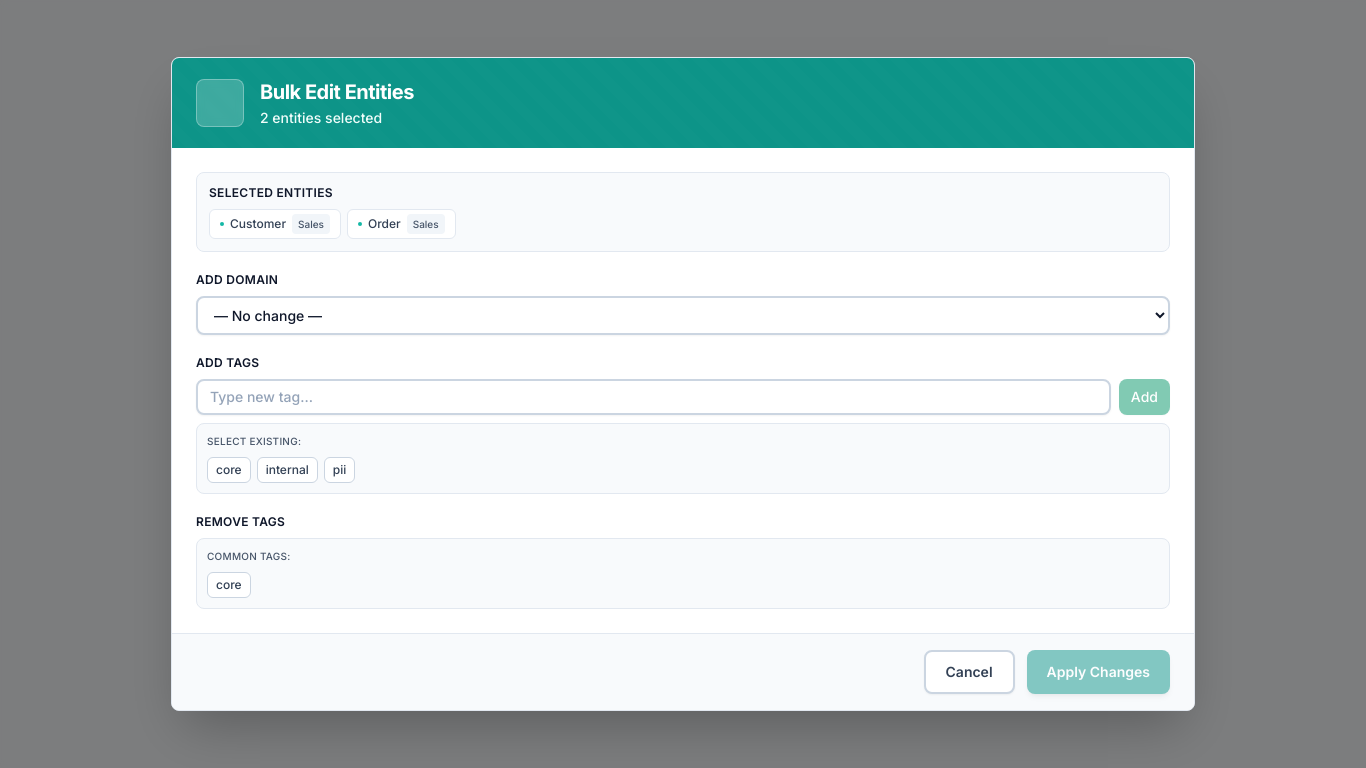
Test case: BulkEditModal › applies domain and new tag to all selected entities, leaves others alone, clears selection and closes
Select "Operations" in the dropdown labelled "Add Domain". click: (683, 316)
box: [196,296,1170,335]
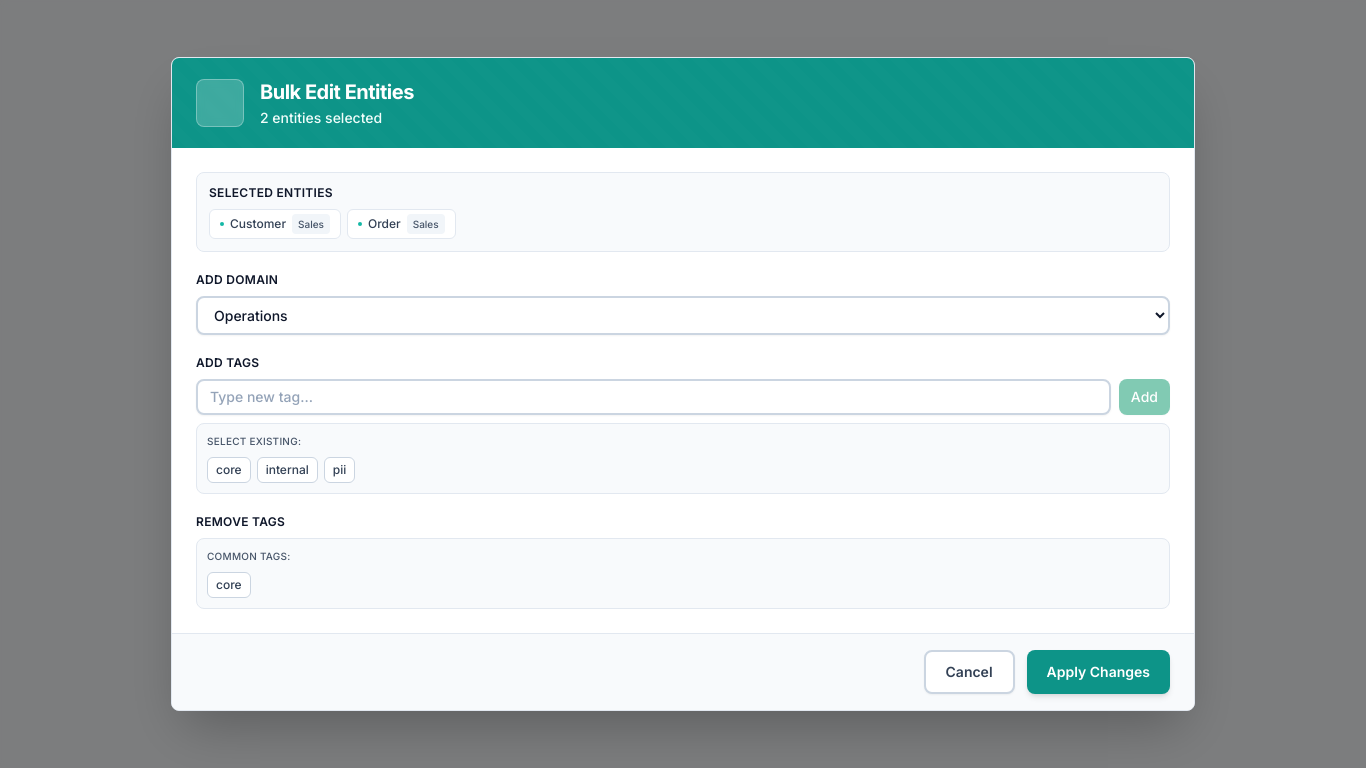
Type "reviewed" into the field with placeholder "Type new tag...". click: (653, 397)
box: [196,379,1111,415]
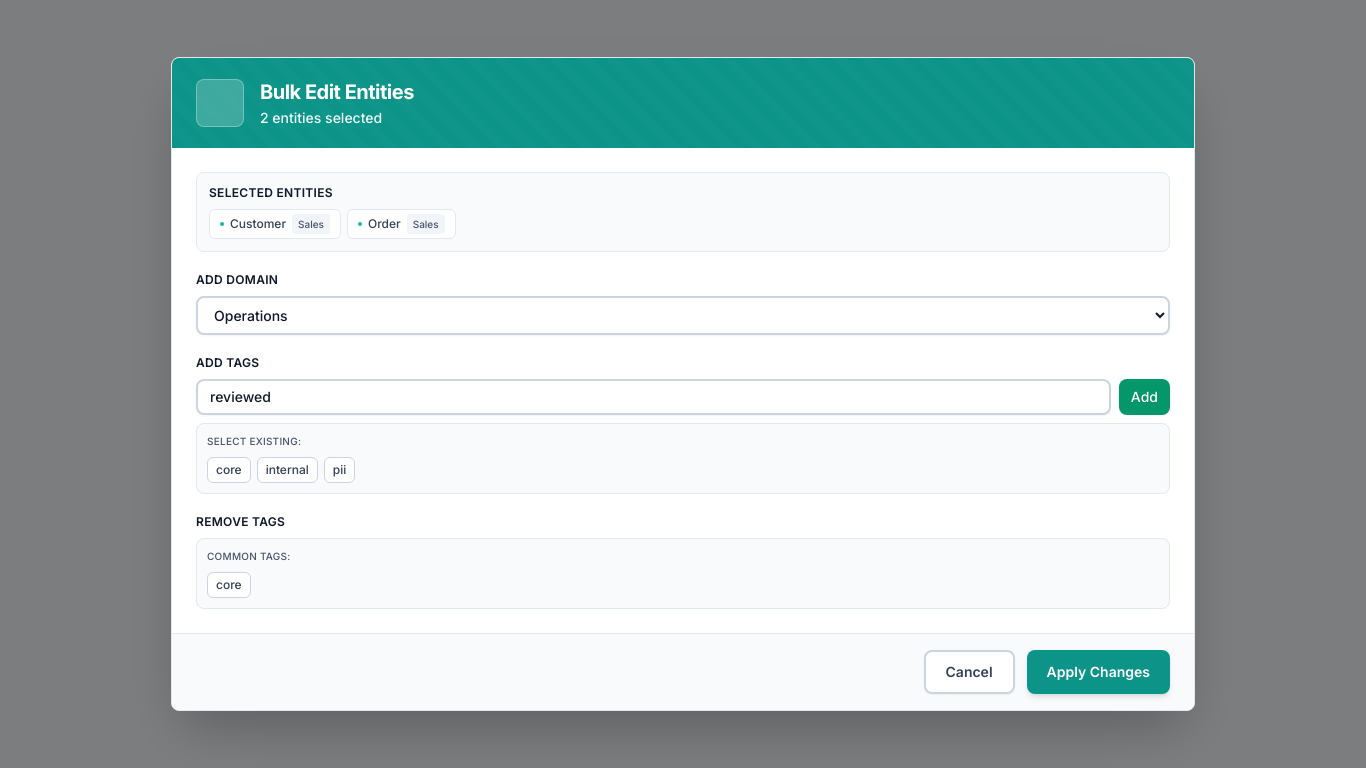
Click the button "Add". click: click(1144, 397)
box: [1119,379,1170,415]
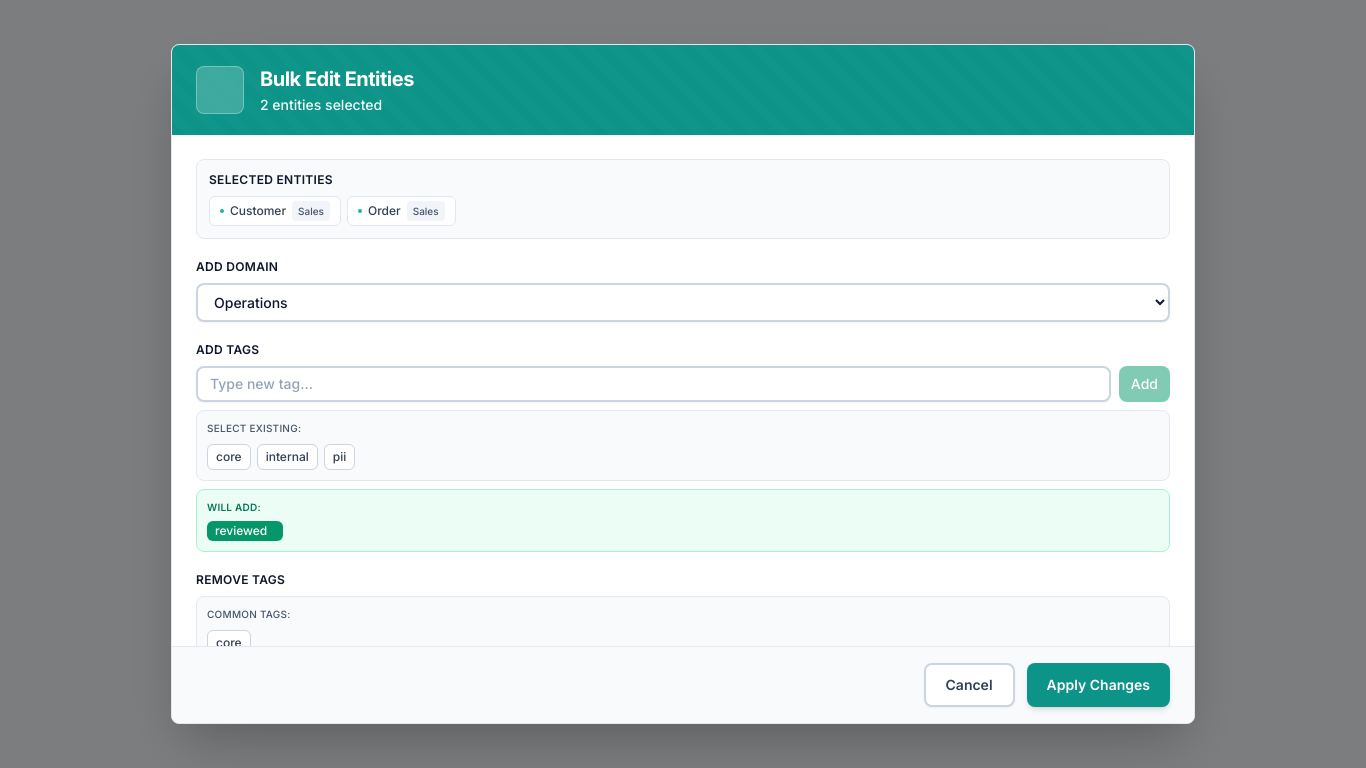
expect the text "Will add:" is shown: met, box [207,501,261,513]
Click the button "Apply Changes". click: click(1098, 685)
box: [1027,663,1170,707]
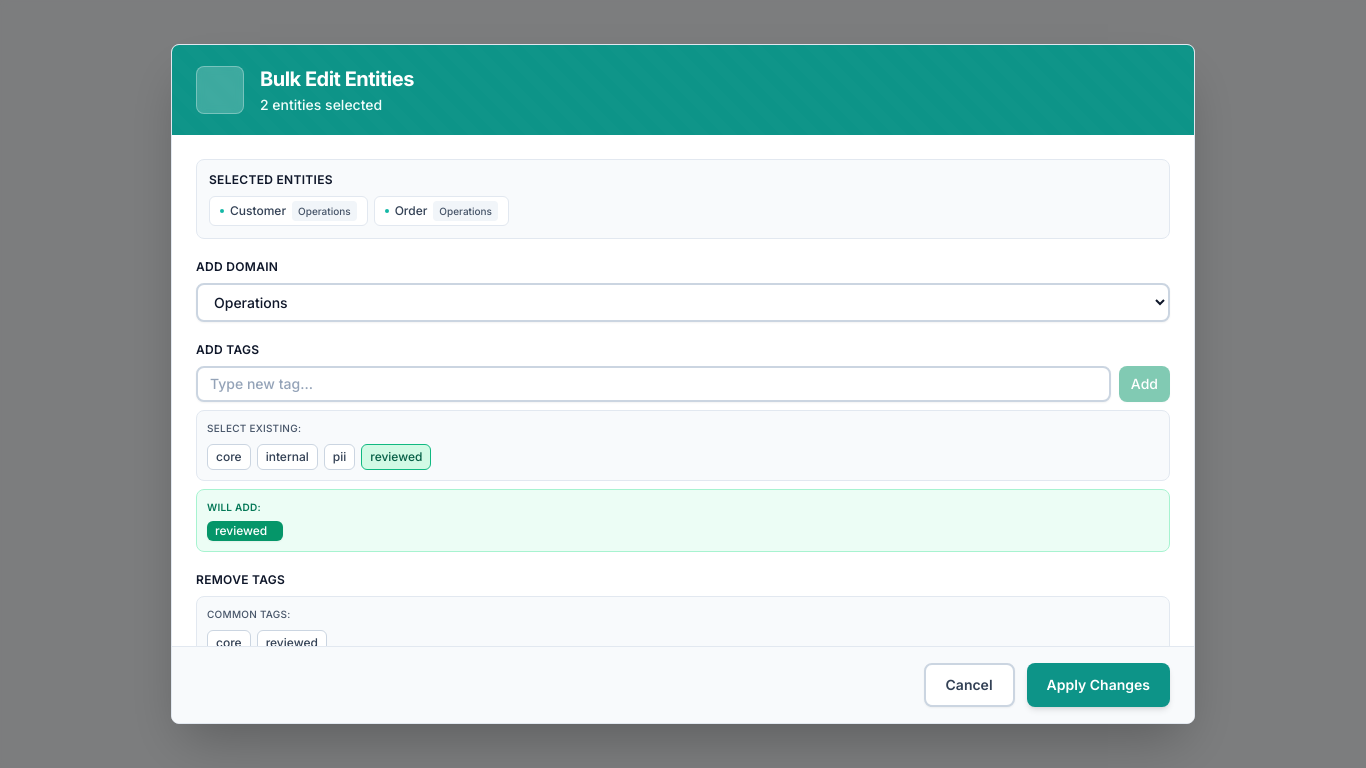
expect the text "Operations" next to "Customer" is shown: met, box [298,205,351,217]
